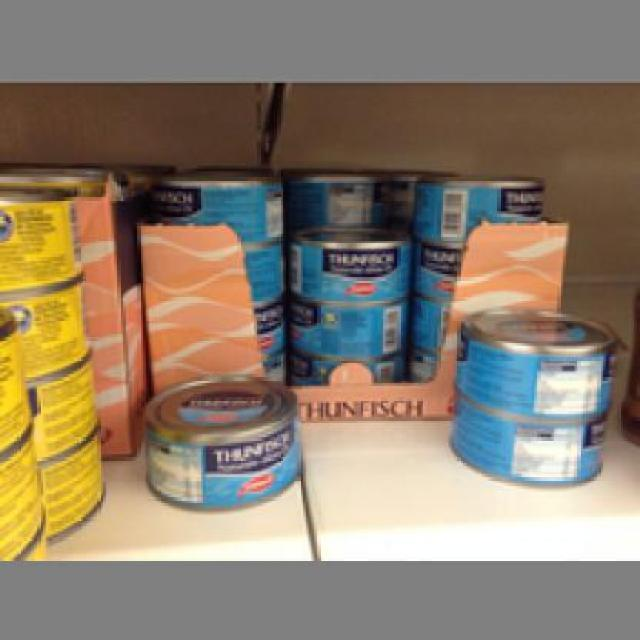Fish: (140, 368, 306, 508), (454, 300, 614, 414), (437, 380, 606, 486), (406, 168, 543, 246), (282, 217, 408, 297), (148, 166, 282, 240), (274, 286, 412, 354)
